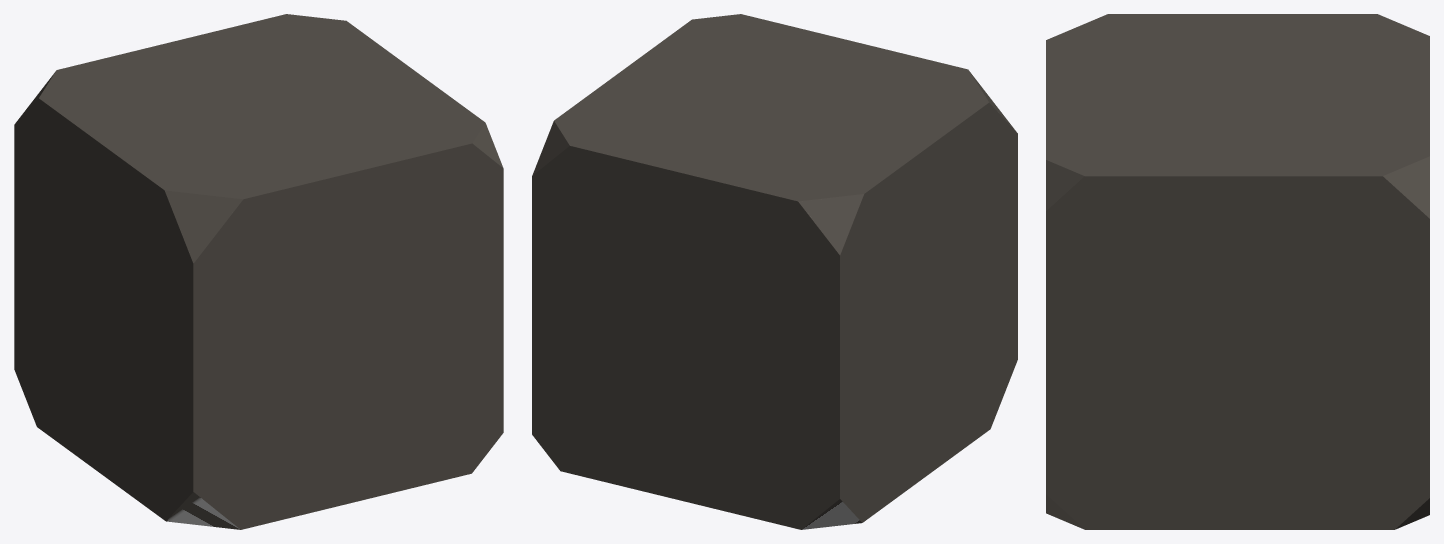
Rendered from wall-model.gltf.
The picture shows the model from 3 angles, left to right: view 1: azimuth 30°, elevation 25°; view 2: azimuth 150°, elevation 25°; view 3: azimuth 270°, elevation 25°; orthographic projection. The views are drawn at different scales.
Visible parts, largest first — view 1: Cube; view 2: Cube; view 3: Cube.
Boxes of the visible parts, x1,y1,x2,y2 form: Cube: (14, 14, 503, 529); Cube: (532, 14, 1017, 529); Cube: (1046, 14, 1429, 529).
Size of the model in its own units: 1 by 1.02 by 1.
1 material, 1 textured.
